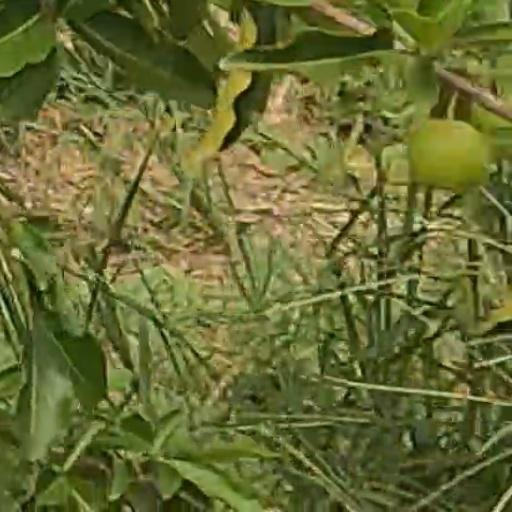acerola_verde: (410, 118, 488, 189)
